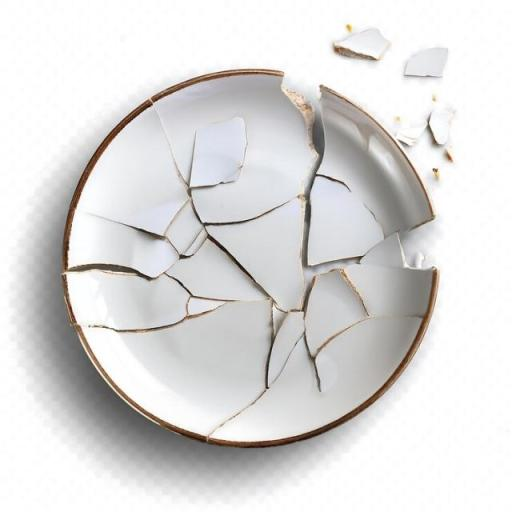glass: (54, 58, 456, 452), (303, 262, 434, 399), (65, 210, 189, 282), (64, 268, 196, 330), (304, 176, 379, 267), (188, 118, 248, 188), (266, 307, 306, 389), (360, 232, 422, 268), (334, 28, 392, 62), (404, 47, 448, 78), (428, 109, 454, 145), (394, 125, 428, 146)
